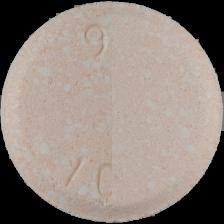54868-3732: (0, 0, 224, 224)
